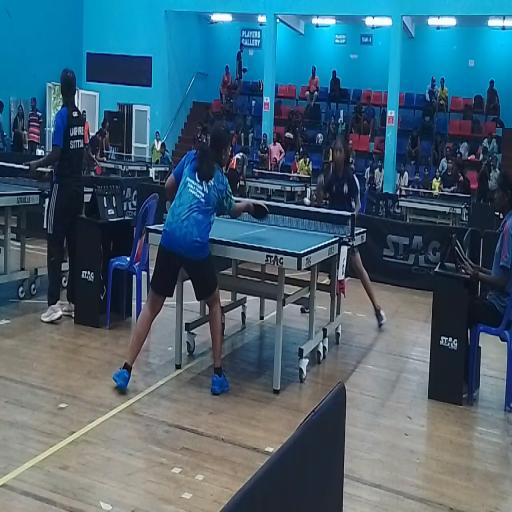ball: (303, 198, 310, 207)
